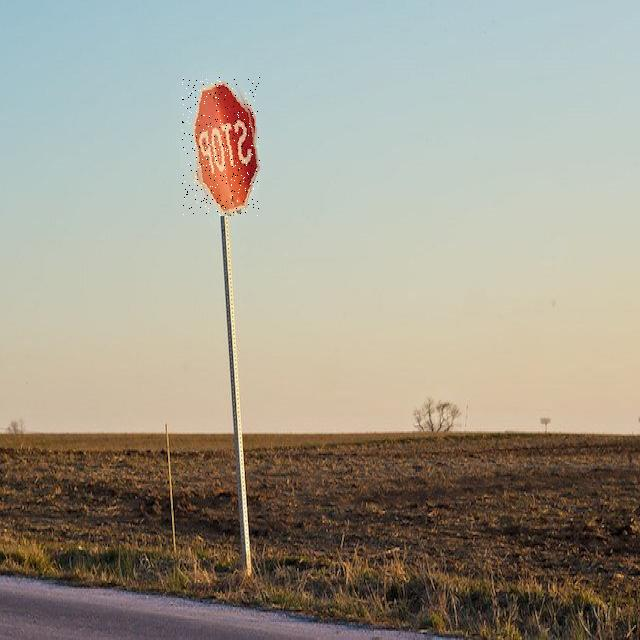stop: (182, 77, 260, 216)
